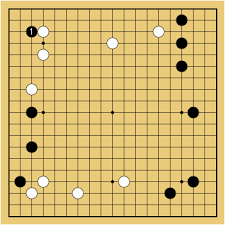black: (180, 16, 184, 20), (168, 191, 172, 195), (180, 63, 184, 67), (180, 40, 184, 44), (16, 180, 20, 184), (191, 180, 195, 184), (191, 110, 195, 114), (28, 145, 32, 149), (28, 110, 32, 114), (29, 29, 31, 31)
white: (40, 180, 44, 184), (156, 28, 160, 32), (121, 180, 125, 184), (110, 40, 114, 44), (75, 191, 79, 195), (40, 51, 44, 55), (28, 191, 32, 195), (29, 87, 31, 89), (41, 29, 43, 31)
